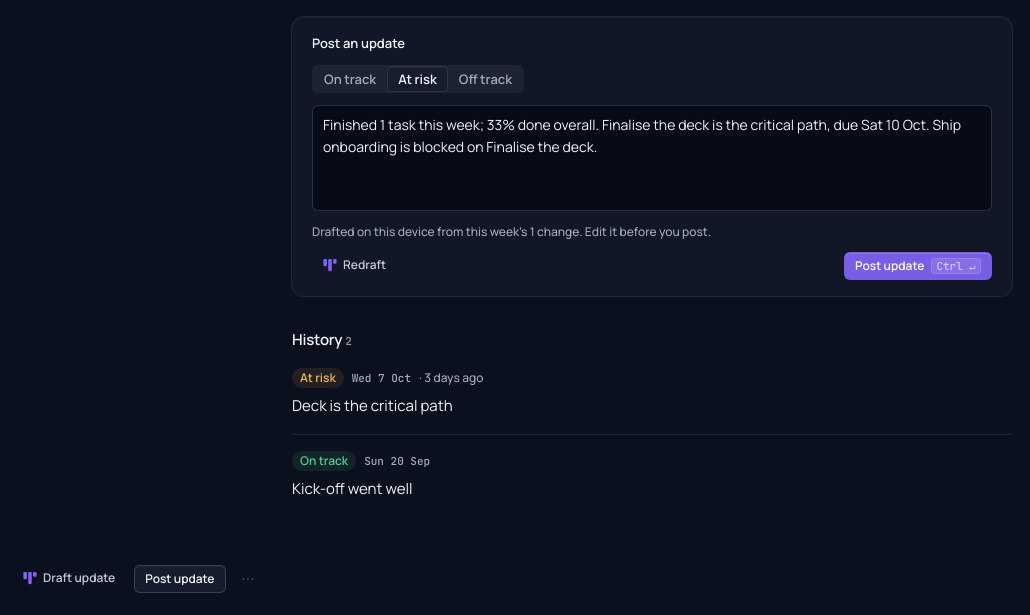
Scenario: ProjectActions — posting an update › Draft update asks the AI in place of an untouched on-device draft
The image size is (1030, 615).
Click the button "Draft update". click: (69,579)
box: 12,565 -> 126,593
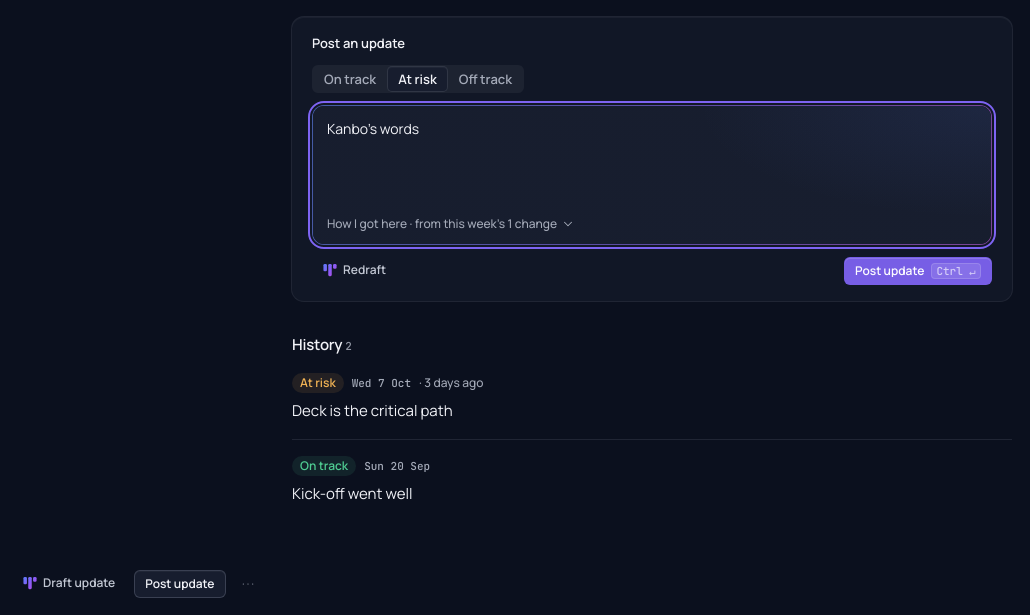
Result: the text box named "Update" holds "Kanbo's words" at 327,118 -> 977,208
